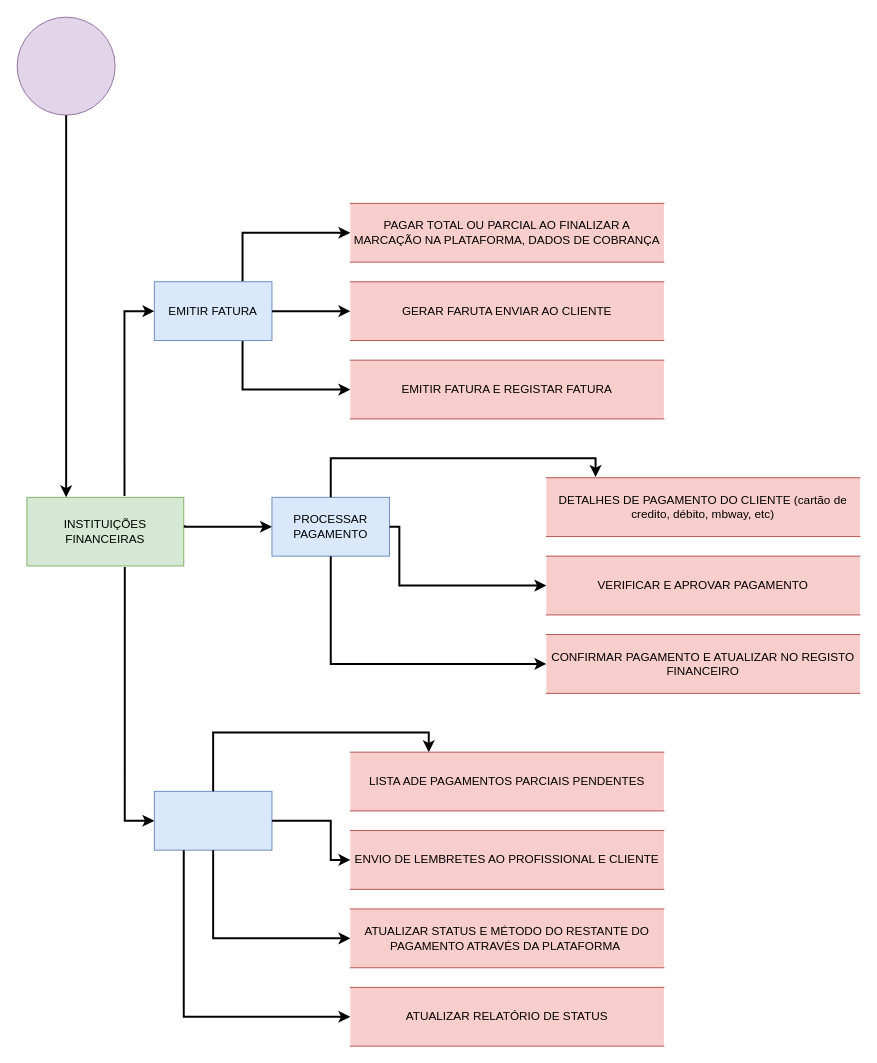
Image size: 877x1063. Some labels were removed from this diagram. The box of each missing label's shape, as (x1, y1, x2, y2) in pixels:
GERENCIAR PAGAMENTOS PENDENTES: (153, 790, 272, 850)
GESTÃO DE FINANCEIRO E CONTÁBIL: (16, 16, 115, 115)
